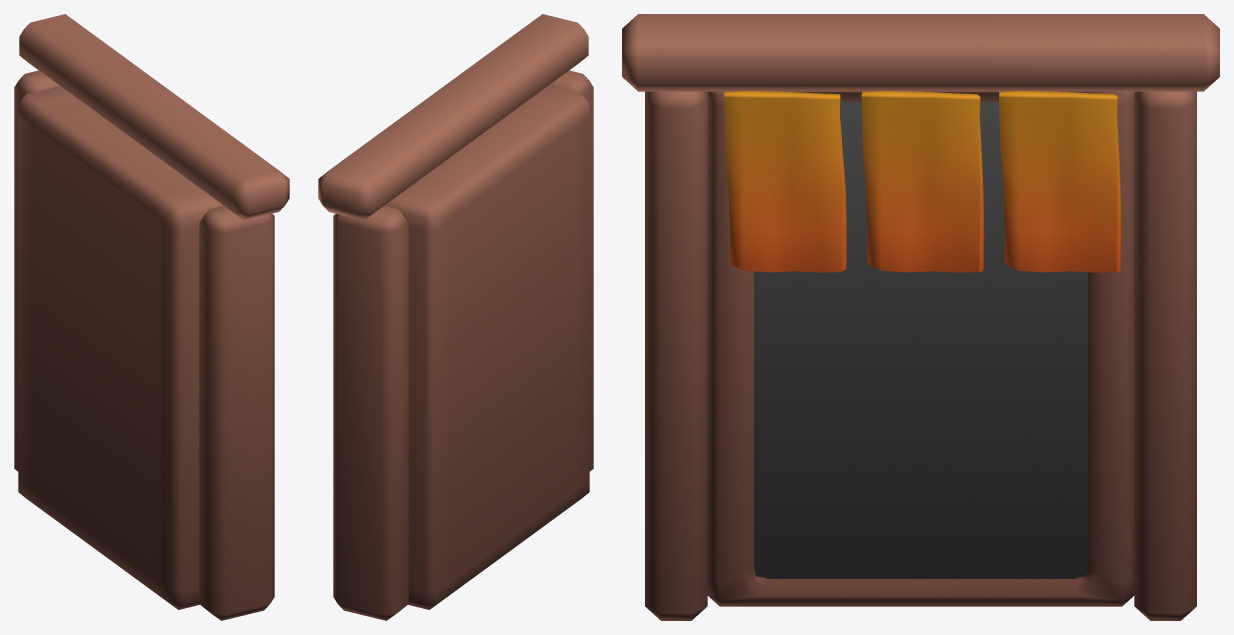
Rendered from SM_Wood_Door_01.fbx.
3 views of the same model, side by side, from view 1: azimuth 30°, elevation 25°; view 2: azimuth 150°, elevation 25°; view 3: azimuth 270°, elevation 25° (orthographic). The views are drawn at different scales.
Parts seen in each view (by area): view 1: SM_Wood_Door_01; view 2: SM_Wood_Door_01; view 3: SM_Wood_Door_01.
Boxes of the visible parts, x1,y1,x2,y2 form: SM_Wood_Door_01: (14, 14, 289, 620); SM_Wood_Door_01: (318, 14, 593, 620); SM_Wood_Door_01: (622, 14, 1219, 620).
Bounding box in the file's own units: 0.1268 × 0.5786 × 0.5325.
